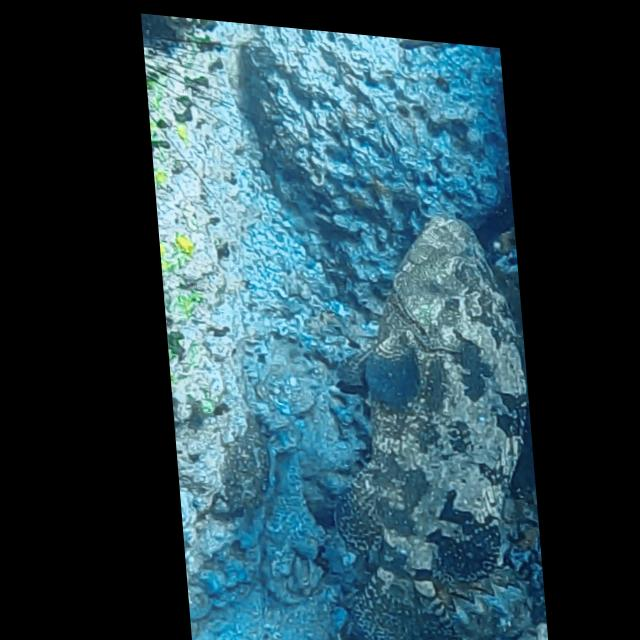Groupers: (307, 202, 548, 640)
